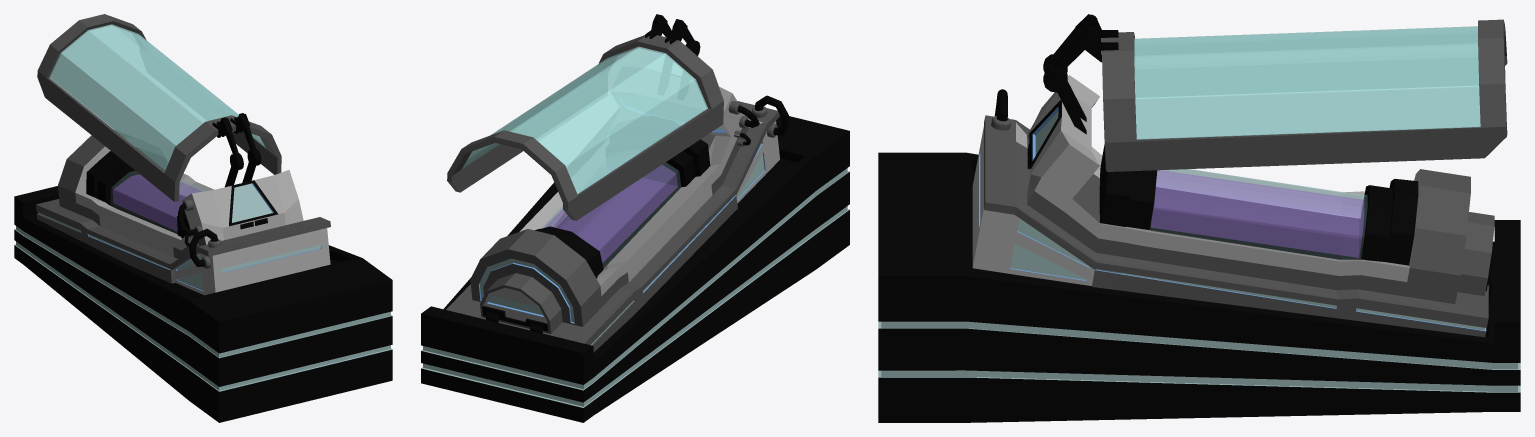
File: chamber.fbx
The picture shows the model from 3 angles, left to right: view 1: azimuth 30°, elevation 25°; view 2: azimuth 150°, elevation 25°; view 3: azimuth 270°, elevation 25°; orthographic projection. The views are drawn at different scales.
Visible parts, largest first — view 1: capsule, lid, liquid; view 2: capsule, lid, liquid; view 3: capsule, lid, liquid.
Boxes of the visible parts, bbox=[...] form: capsule: bbox=[14, 130, 392, 422]; lid: bbox=[37, 14, 281, 201]; liquid: bbox=[113, 174, 202, 231]; capsule: bbox=[421, 86, 849, 422]; lid: bbox=[447, 14, 723, 220]; liquid: bbox=[544, 165, 677, 262]; capsule: bbox=[878, 75, 1520, 422]; lid: bbox=[1043, 14, 1507, 171]; liquid: bbox=[1151, 170, 1363, 257].
Size of the model in its own units: 1.18 by 2.6 by 1.52.
